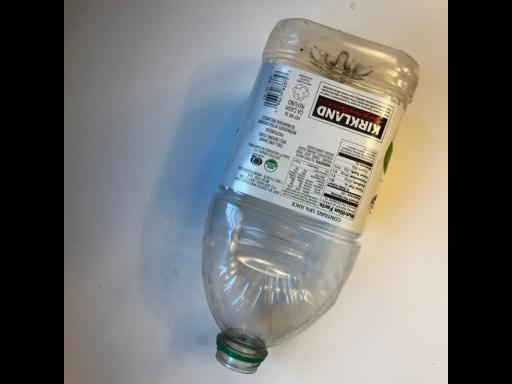bottle: (199, 15, 424, 379)
